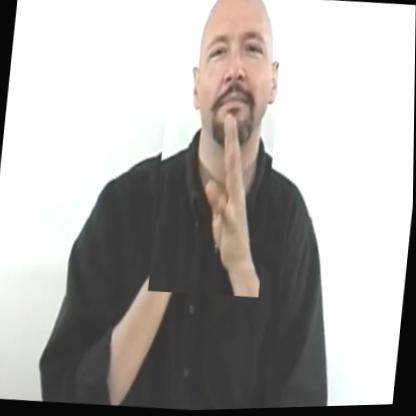Talk: (148, 0, 288, 301)
